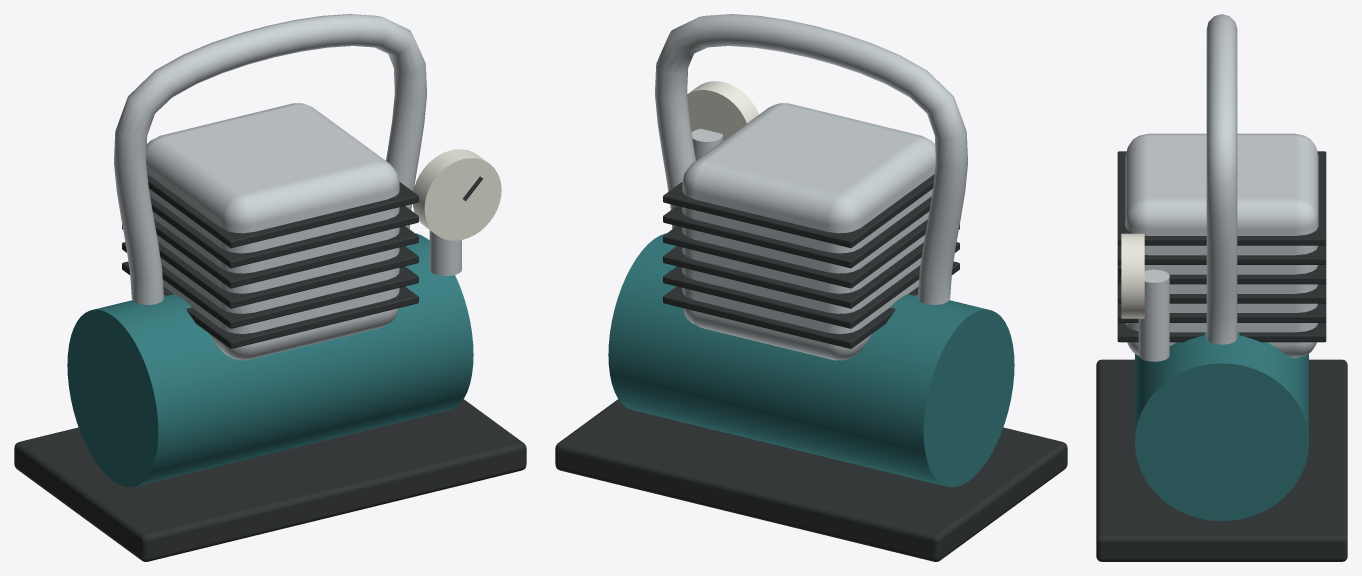
File: tabletop-hobby-store-and-club-miniature-compressor-58eb1f8f__31596.glb
3 views of the same model, side by side, from view 1: azimuth 30°, elevation 25°; view 2: azimuth 150°, elevation 25°; view 3: azimuth 270°, elevation 25° (orthographic). The views are drawn at different scales.
Parts seen in each view (by area): view 1: miniature-compressor; view 2: miniature-compressor; view 3: miniature-compressor.
Boxes of the visible parts, x1=… form: miniature-compressor: x1=14, y1=14, x2=526, y2=561; miniature-compressor: x1=555, y1=14, x2=1067, y2=561; miniature-compressor: x1=1096, y1=14, x2=1347, y2=561.
Bounding box in the file's own units: 0.22 × 0.2417 × 0.13.
